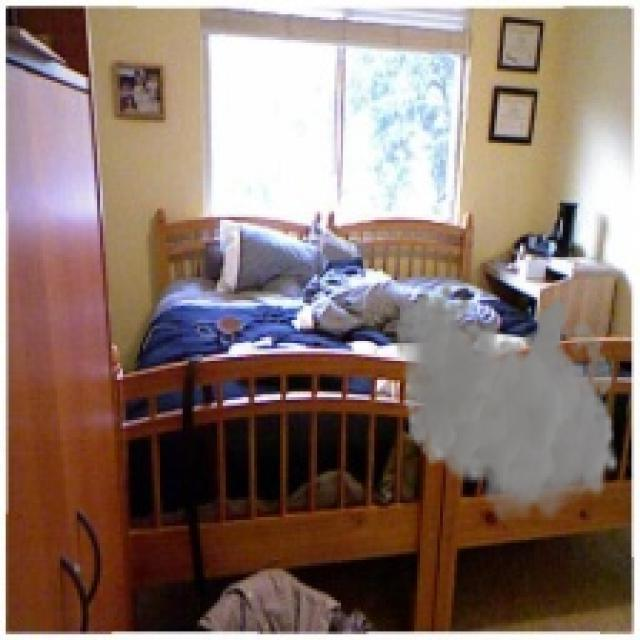Smoke: (394, 283, 620, 532)
